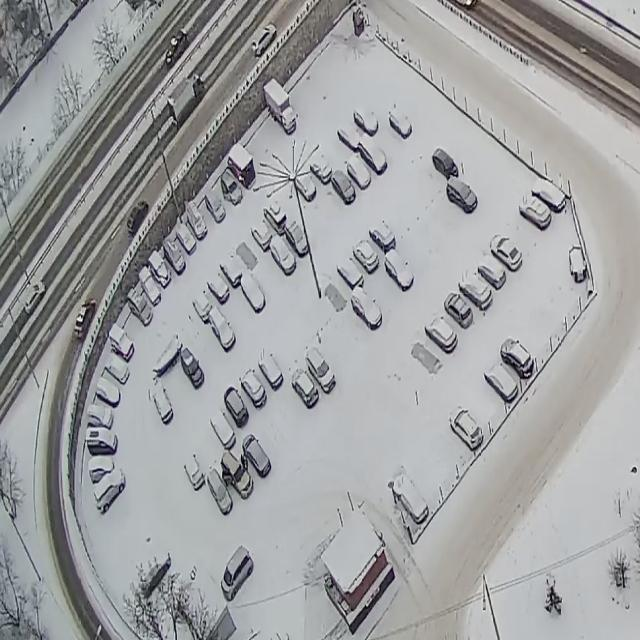car: (392, 471, 430, 527), (220, 544, 255, 604), (166, 75, 205, 126), (264, 78, 298, 136), (136, 543, 172, 597), (448, 401, 484, 454), (220, 447, 254, 502), (484, 354, 518, 406), (500, 334, 534, 384), (94, 465, 125, 519), (458, 268, 493, 314), (488, 233, 524, 276), (441, 289, 475, 334), (424, 312, 458, 357), (240, 432, 272, 479), (306, 345, 336, 395), (384, 248, 415, 296), (351, 287, 383, 333), (227, 144, 257, 192), (516, 192, 551, 233), (357, 132, 388, 178), (255, 349, 285, 395), (531, 177, 567, 215), (206, 467, 233, 517), (476, 250, 506, 294), (222, 386, 252, 430), (290, 365, 319, 410), (446, 175, 479, 214), (240, 366, 269, 410), (209, 307, 236, 354), (430, 144, 460, 186), (269, 233, 297, 278), (283, 214, 311, 259), (126, 285, 154, 328), (335, 252, 365, 292), (84, 426, 120, 459), (208, 408, 236, 450), (149, 380, 174, 427), (367, 217, 397, 256), (239, 271, 266, 314), (352, 237, 380, 276), (304, 148, 333, 185), (181, 448, 205, 492), (181, 347, 205, 391), (261, 199, 289, 236), (110, 324, 135, 365), (249, 23, 279, 57), (346, 153, 372, 192), (147, 250, 172, 290), (138, 266, 163, 306), (205, 267, 230, 307), (164, 29, 189, 68), (337, 115, 362, 154), (290, 168, 317, 204), (74, 298, 97, 340), (388, 106, 414, 143), (353, 101, 379, 138), (189, 286, 214, 324), (218, 251, 243, 289), (332, 167, 356, 206), (86, 453, 114, 486), (186, 202, 209, 242), (163, 238, 187, 276), (104, 352, 130, 387), (124, 200, 149, 236), (250, 216, 274, 253), (175, 220, 198, 258), (96, 375, 120, 410), (220, 172, 244, 206), (88, 401, 114, 432), (204, 188, 227, 223), (24, 280, 46, 316)
